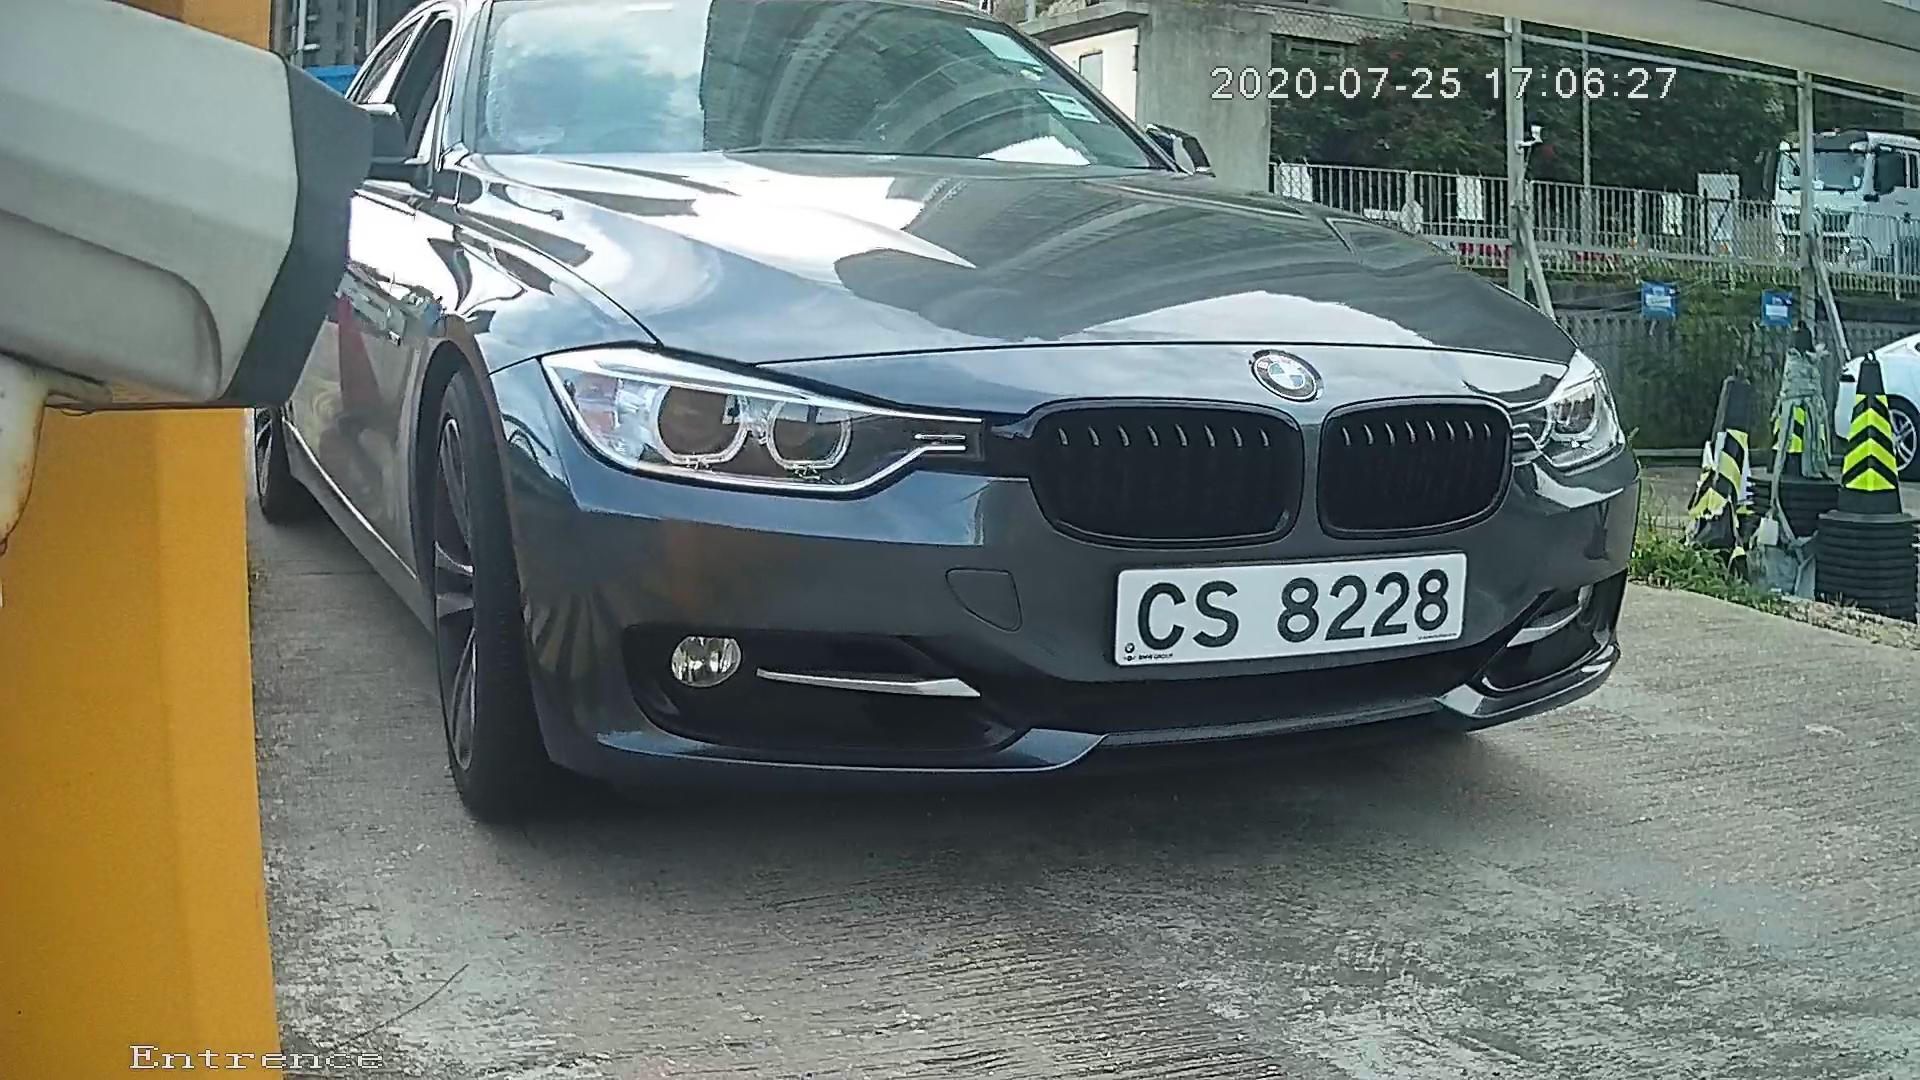privatecar: (266, 29, 1801, 835)
